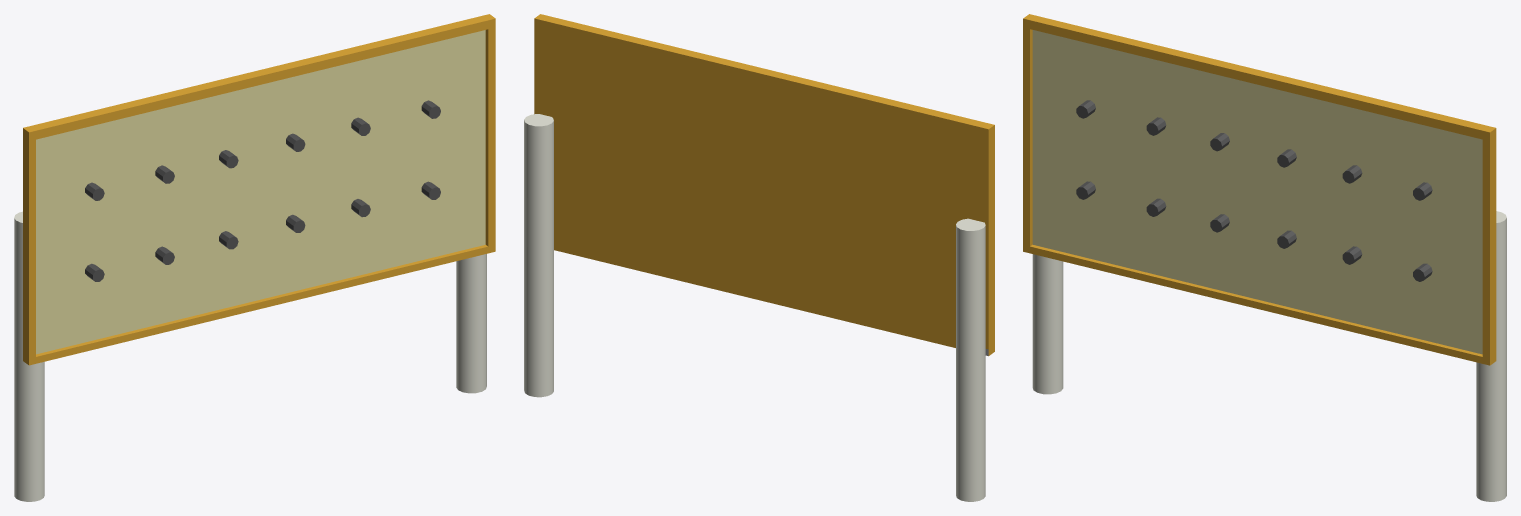
The model's file is panel.fbx.
The picture shows the model from 3 angles, left to right: view 1: azimuth 30°, elevation 25°; view 2: azimuth 150°, elevation 25°; view 3: azimuth 330°, elevation 25°; orthographic projection. The views are drawn at different scales.
Visible parts, largest first — view 1: pCube1, pCylinder1, pasted__pCylinder1; view 2: pCube1, pasted__pCylinder1, pCylinder1; view 3: pCube1, pasted__pCylinder1, pCylinder1.
Part boxes in pixels (x1=…): pCube1: x1=23, y1=14, x2=495, y2=365; pCylinder1: x1=14, y1=211, x2=44, y2=501; pasted__pCylinder1: x1=456, y1=254, x2=486, y2=393; pCube1: x1=534, y1=14, x2=994, y2=356; pasted__pCylinder1: x1=524, y1=114, x2=553, y2=397; pCylinder1: x1=956, y1=218, x2=985, y2=501; pCube1: x1=1023, y1=14, x2=1496, y2=365; pasted__pCylinder1: x1=1476, y1=211, x2=1506, y2=501; pCylinder1: x1=1032, y1=254, x2=1063, y2=394.
Size of the model in its own units: 5.9 by 4.5 by 0.5572.
